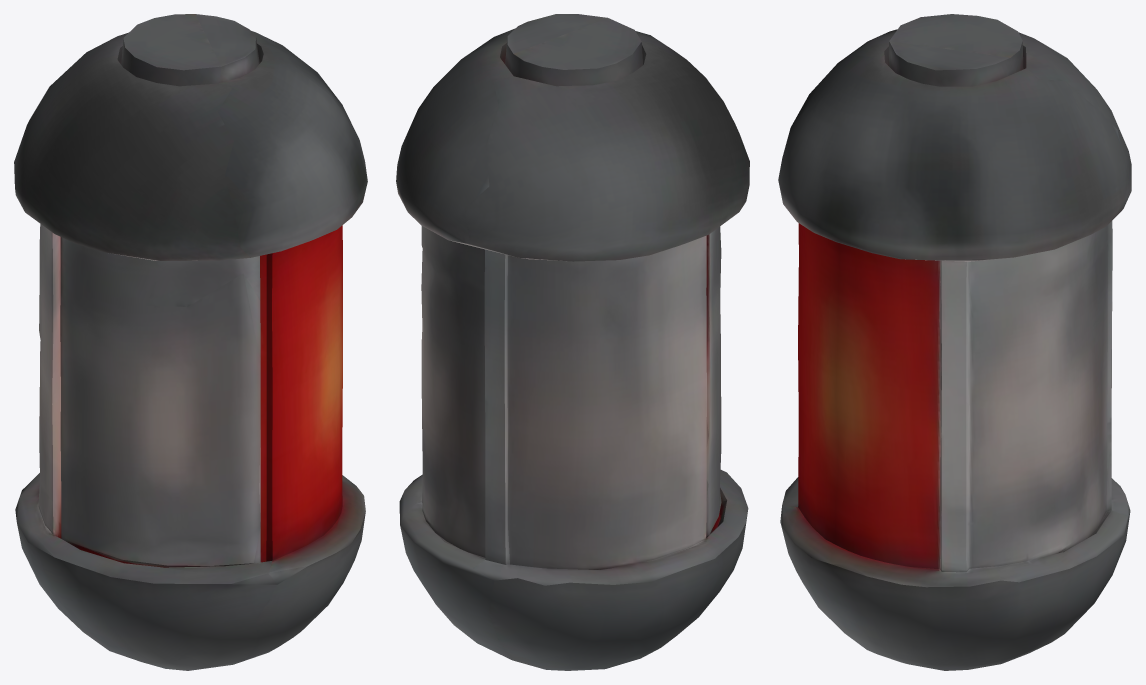
The model's file is m2PowerCell.glb.
The picture shows the model from 3 angles, left to right: view 1: azimuth 30°, elevation 25°; view 2: azimuth 150°, elevation 25°; view 3: azimuth 270°, elevation 25°; orthographic projection.
Visible parts, largest first — view 1: model; view 2: model; view 3: model.
Part boxes in pixels (left/top/right/bottom): model: left=14, top=14, right=367, bottom=670; model: left=396, top=14, right=749, bottom=670; model: left=778, top=14, right=1131, bottom=670.
Bounding box in the file's own units: 0.9921 × 1.89 × 0.997.
1 material, 1 textured.
